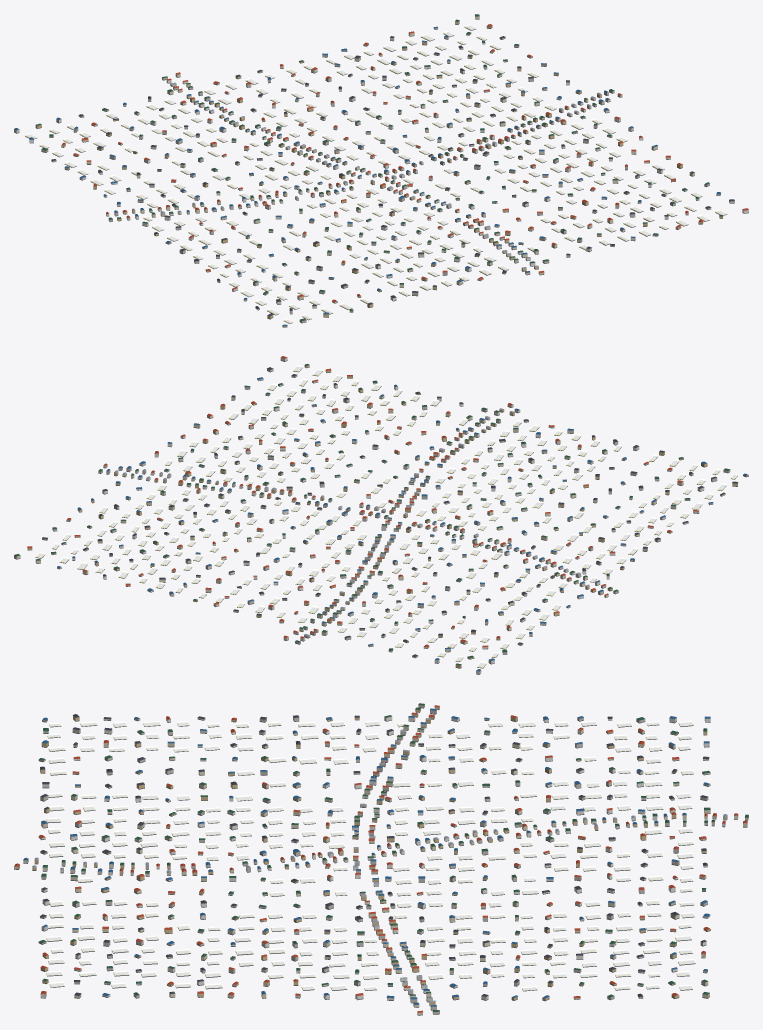
Rendered from buildings_T_W05_N01.glb.
3 views of the same model, one above another, from view 1: azimuth 30°, elevation 25°; view 2: azimuth 150°, elevation 25°; view 3: azimuth 270°, elevation 25° (orthographic). The views are drawn at different scales.
Visible parts, largest first — view 1: T_W05_N01_roofs_agri_greenhouse_arch, T_W05_N01_slope_seating_foundations, T_W05_N01_walls_wall_dalat_cream_stucco, T_W05_N01_walls_wall_french_ochre_villa, T_W05_N01_walls_wall_modern_warm_white, T_W05_N01_walls_wall_pastel_sand_gray, T_W05_N01_roofs_roof_terracotta_gable, T_W05_N01_roofs_roof_pine_green_hip, T_W05_N01_roofs_roof_highland_blue_gable, T_W05_N01_roofs_roof_slate_French_villa_hip; view 2: T_W05_N01_roofs_agri_greenhouse_arch, T_W05_N01_slope_seating_foundations, T_W05_N01_walls_wall_dalat_cream_stucco, T_W05_N01_walls_wall_french_ochre_villa, T_W05_N01_walls_wall_modern_warm_white, T_W05_N01_walls_wall_pastel_sand_gray, T_W05_N01_roofs_roof_terracotta_gable, T_W05_N01_roofs_roof_pine_green_hip, T_W05_N01_roofs_roof_highland_blue_gable, T_W05_N01_roofs_roof_slate_French_villa_hip; view 3: T_W05_N01_roofs_agri_greenhouse_arch, T_W05_N01_slope_seating_foundations, T_W05_N01_walls_wall_dalat_cream_stucco, T_W05_N01_walls_wall_modern_warm_white, T_W05_N01_walls_wall_french_ochre_villa, T_W05_N01_walls_wall_pastel_sand_gray, T_W05_N01_roofs_roof_terracotta_gable, T_W05_N01_roofs_roof_pine_green_hip, T_W05_N01_roofs_roof_highland_blue_gable, T_W05_N01_roofs_roof_slate_French_villa_hip, T_W05_N01_roofs_roof_zinc_silver_gable.
Boxes of the visible parts, x1,y1,x2,y2 form: T_W05_N01_roofs_agri_greenhouse_arch: (25, 24, 727, 323); T_W05_N01_slope_seating_foundations: (14, 19, 748, 327); T_W05_N01_walls_wall_dalat_cream_stucco: (61, 16, 734, 309); T_W05_N01_walls_wall_french_ochre_villa: (35, 25, 722, 327); T_W05_N01_walls_wall_modern_warm_white: (14, 36, 748, 304); T_W05_N01_walls_wall_pastel_sand_gray: (41, 45, 709, 322); T_W05_N01_roofs_roof_terracotta_gable: (62, 24, 748, 302); T_W05_N01_roofs_roof_pine_green_hip: (36, 14, 723, 320); T_W05_N01_roofs_roof_highland_blue_gable: (14, 26, 720, 326); T_W05_N01_roofs_roof_slate_French_villa_hip: (51, 36, 734, 316); T_W05_N01_roofs_agri_greenhouse_arch: (35, 365, 737, 667); T_W05_N01_slope_seating_foundations: (14, 360, 748, 674); T_W05_N01_walls_wall_dalat_cream_stucco: (14, 369, 725, 651); T_W05_N01_walls_wall_french_ochre_villa: (27, 365, 748, 668); T_W05_N01_walls_wall_modern_warm_white: (61, 357, 704, 674); T_W05_N01_walls_wall_pastel_sand_gray: (52, 382, 730, 653); T_W05_N01_roofs_roof_terracotta_gable: (27, 356, 698, 647); T_W05_N01_roofs_roof_pine_green_hip: (14, 364, 730, 665); T_W05_N01_roofs_roof_highland_blue_gable: (57, 377, 748, 671); T_W05_N01_roofs_roof_slate_French_villa_hip: (42, 367, 738, 656); T_W05_N01_roofs_agri_greenhouse_arch: (46, 720, 695, 990); T_W05_N01_slope_seating_foundations: (14, 707, 748, 1015); T_W05_N01_walls_wall_dalat_cream_stucco: (14, 706, 747, 1014); T_W05_N01_walls_wall_modern_warm_white: (38, 716, 738, 1000); T_W05_N01_walls_wall_french_ochre_villa: (32, 708, 710, 1005); T_W05_N01_walls_wall_pastel_sand_gray: (38, 704, 748, 1014); T_W05_N01_roofs_roof_terracotta_gable: (14, 705, 747, 1012); T_W05_N01_roofs_roof_pine_green_hip: (39, 703, 748, 1011); T_W05_N01_roofs_roof_highland_blue_gable: (23, 708, 710, 1006); T_W05_N01_roofs_roof_slate_French_villa_hip: (40, 714, 709, 996); T_W05_N01_roofs_roof_zinc_silver_gable: (32, 718, 727, 1002).
Bounding box in the file's own units: 1913 × 25.87 × 1915.
